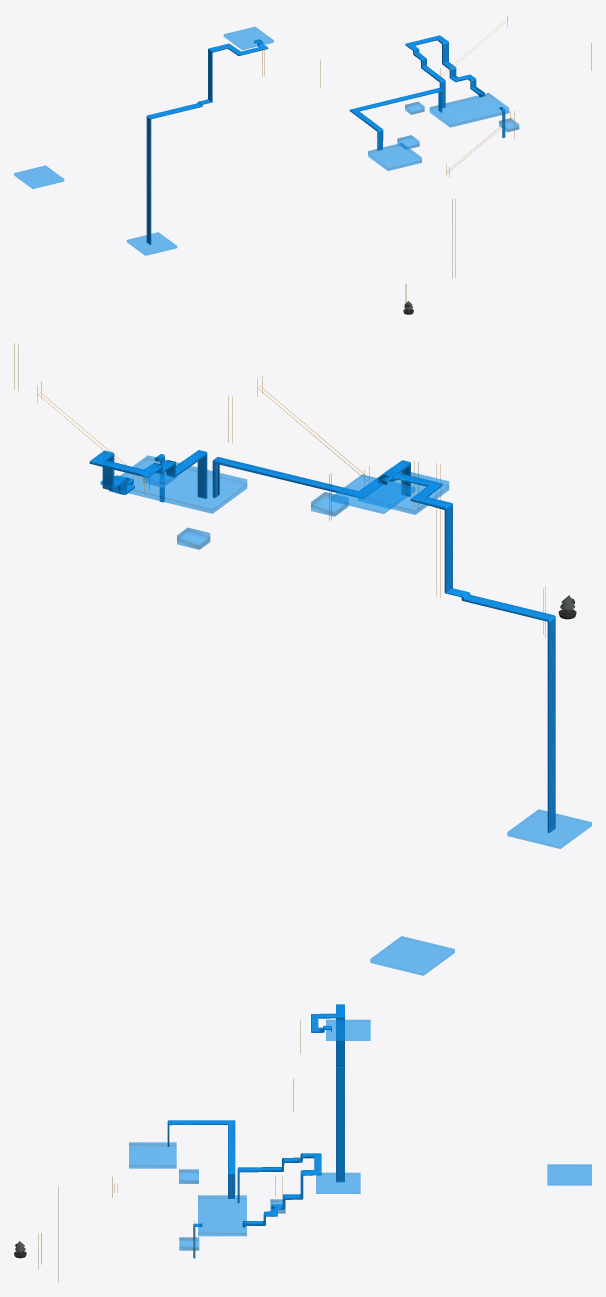
File: Level4NoCollidersCombined.fbx
3 views of the same model, one above another, from view 1: azimuth 30°, elevation 25°; view 2: azimuth 150°, elevation 25°; view 3: azimuth 270°, elevation 25° (orthographic). The views are drawn at different scales.
Parts seen in each view (by area): view 1: WaterRiver34, WaterStill42, WaterRiver32, WaterStill40, WaterRiver31, WaterStill99, WaterStill85, WaterStill48; view 2: WaterRiver34, WaterStill42, WaterRiver32, WaterRiver31, WaterStill99, WaterStill48, WaterStill85, WaterStill40; view 3: WaterStill42, WaterRiver34, WaterRiver32, WaterStill40, WaterRiver31, WaterStill99, WaterStill48, WaterStill85.
Part boxes in pixels (bbox=[...]): WaterRiver34: bbox=[146, 39, 268, 244]; WaterStill42: bbox=[429, 93, 509, 127]; WaterRiver32: bbox=[405, 35, 485, 108]; WaterStill40: bbox=[368, 143, 421, 170]; WaterRiver31: bbox=[349, 88, 442, 150]; WaterStill99: bbox=[14, 165, 64, 188]; WaterStill85: bbox=[126, 232, 177, 255]; WaterStill48: bbox=[223, 26, 273, 50]; WaterRiver34: bbox=[378, 471, 555, 832]; WaterStill42: bbox=[120, 455, 247, 513]; WaterRiver32: bbox=[89, 450, 207, 498]; WaterRiver31: bbox=[212, 457, 410, 498]; WaterStill99: bbox=[370, 936, 454, 975]; WaterStill48: bbox=[330, 474, 415, 513]; WaterStill85: bbox=[507, 809, 591, 848]; WaterStill40: bbox=[358, 467, 449, 514]; WaterStill42: bbox=[198, 1195, 246, 1236]; WaterRiver34: bbox=[311, 1004, 344, 1182]; WaterRiver32: bbox=[237, 1153, 321, 1227]; WaterStill40: bbox=[129, 1142, 176, 1168]; WaterRiver31: bbox=[167, 1120, 235, 1198]; WaterStill99: bbox=[547, 1164, 591, 1185]; WaterStill48: bbox=[326, 1019, 370, 1040]; WaterStill85: bbox=[316, 1172, 360, 1193].
Size of the model in its own units: 389 by 175 by 398.
